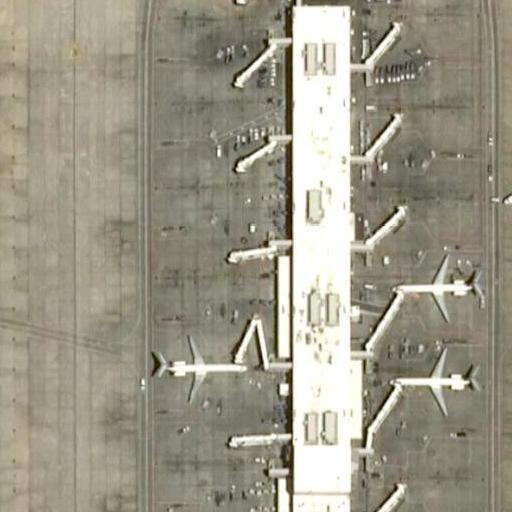Aircraft: (144, 331, 249, 404), (387, 342, 481, 421), (391, 248, 488, 322), (497, 144, 512, 217), (152, 506, 235, 512)
